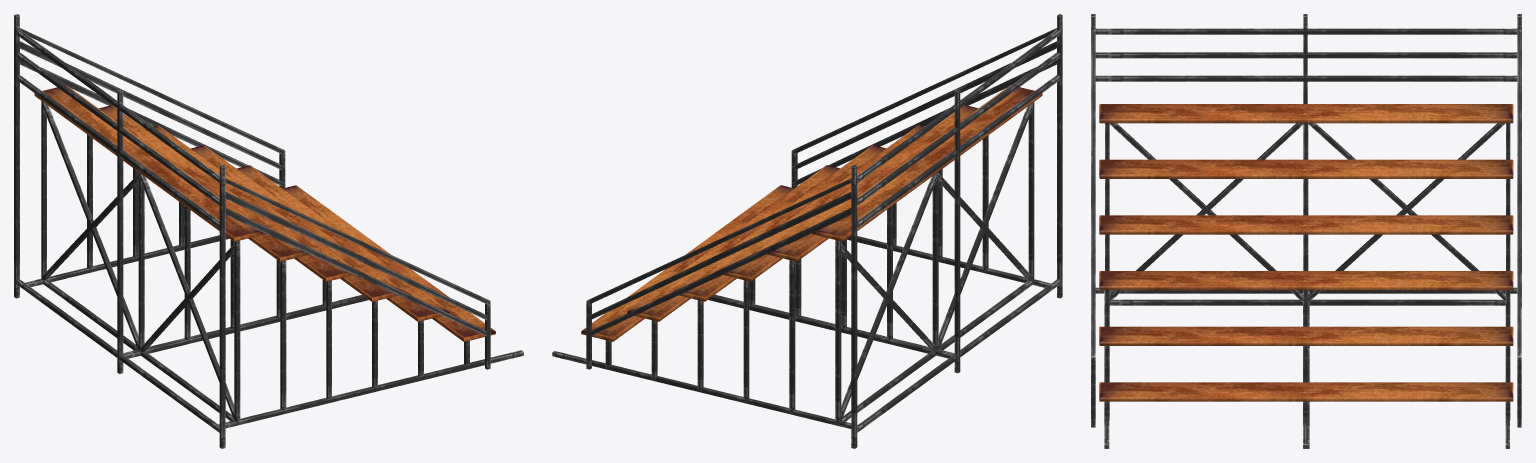
The model's file is bleacher.lod0.glb.
3 views of the same model, side by side, from view 1: azimuth 30°, elevation 25°; view 2: azimuth 150°, elevation 25°; view 3: azimuth 270°, elevation 25° (orthographic). The views are drawn at different scales.
Visible parts, largest first — view 1: bleacher_bleacherMAT_0; view 2: bleacher_bleacherMAT_0; view 3: bleacher_bleacherMAT_0.
Part boxes in pixels (<box>): bleacher_bleacherMAT_0: <box>14,14,523,448</box>; bleacher_bleacherMAT_0: <box>552,14,1062,448</box>; bleacher_bleacherMAT_0: <box>1091,14,1521,448</box>.
Size of the model in its own units: 6 by 5.24 by 7.
Materials: 1 (1 with a texture image).
